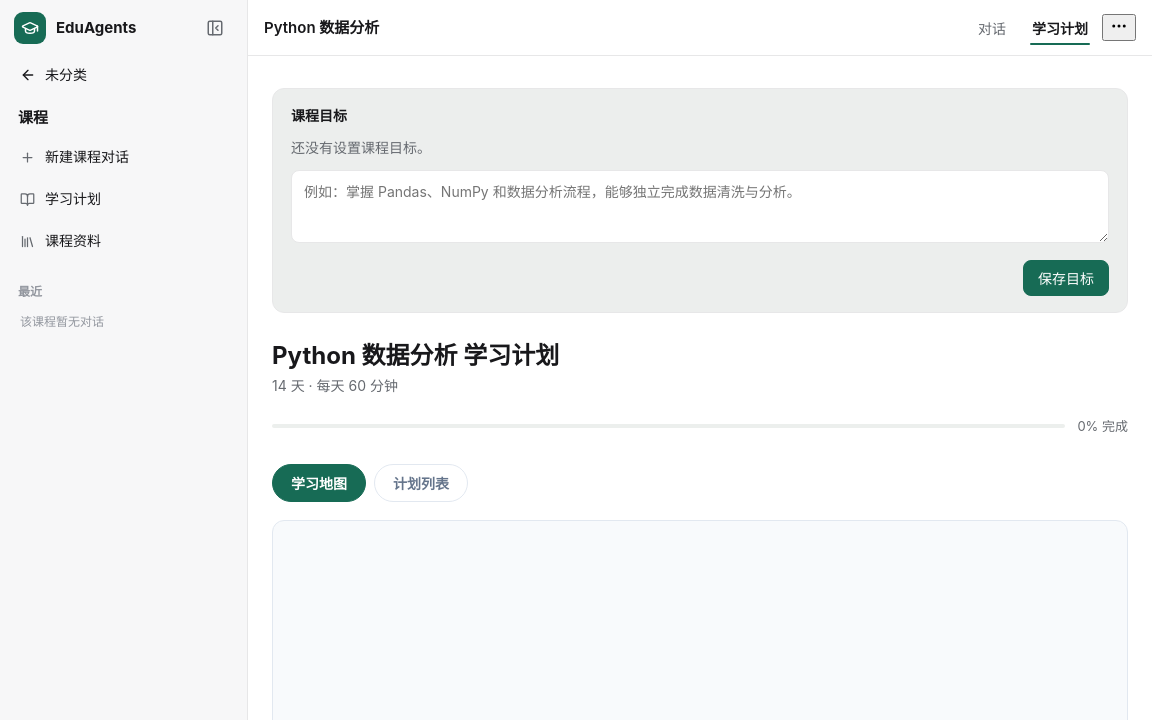
Test case: host-relative navigation (CourseHeader tabs + Plan Step) › Plan Step 就此提问 → /host/learning/courses/PY/chat?step=S1 (host-relative)
Click the tab "计划列表".
click(421, 483)  # box left=374, top=464, right=468, bottom=502
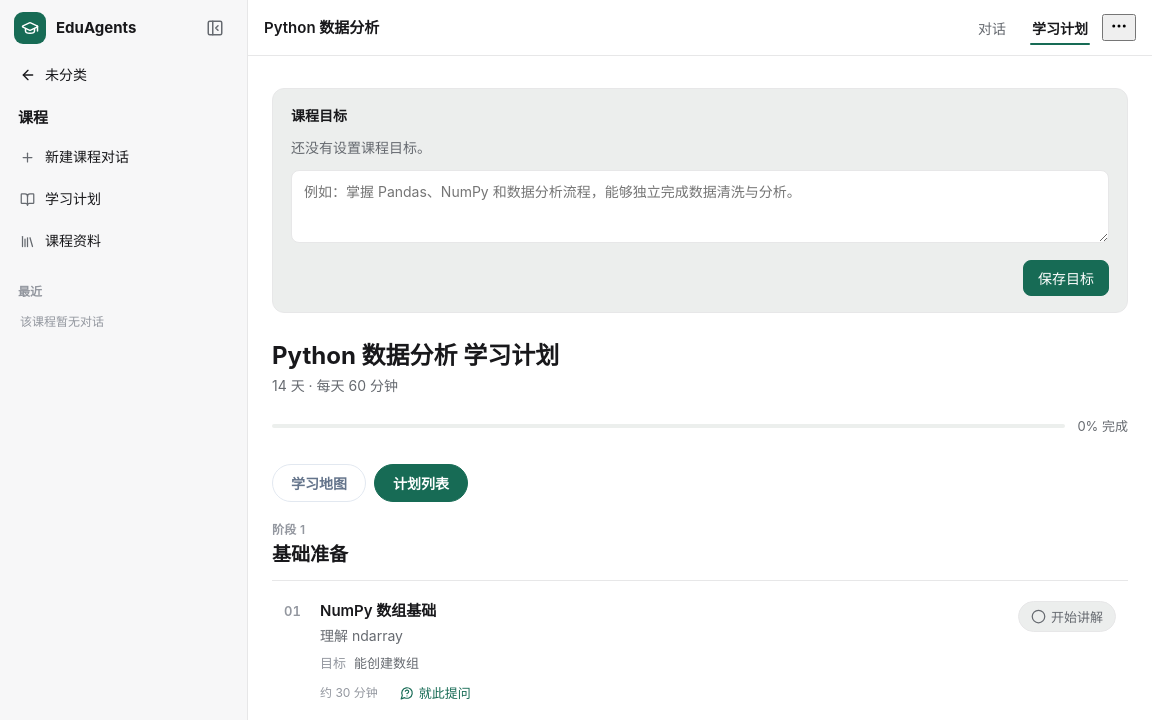
Now the number of buttons "就此提问" is 3
Click the button "就此提问".
click(435, 693)  # box left=392, top=679, right=479, bottom=706
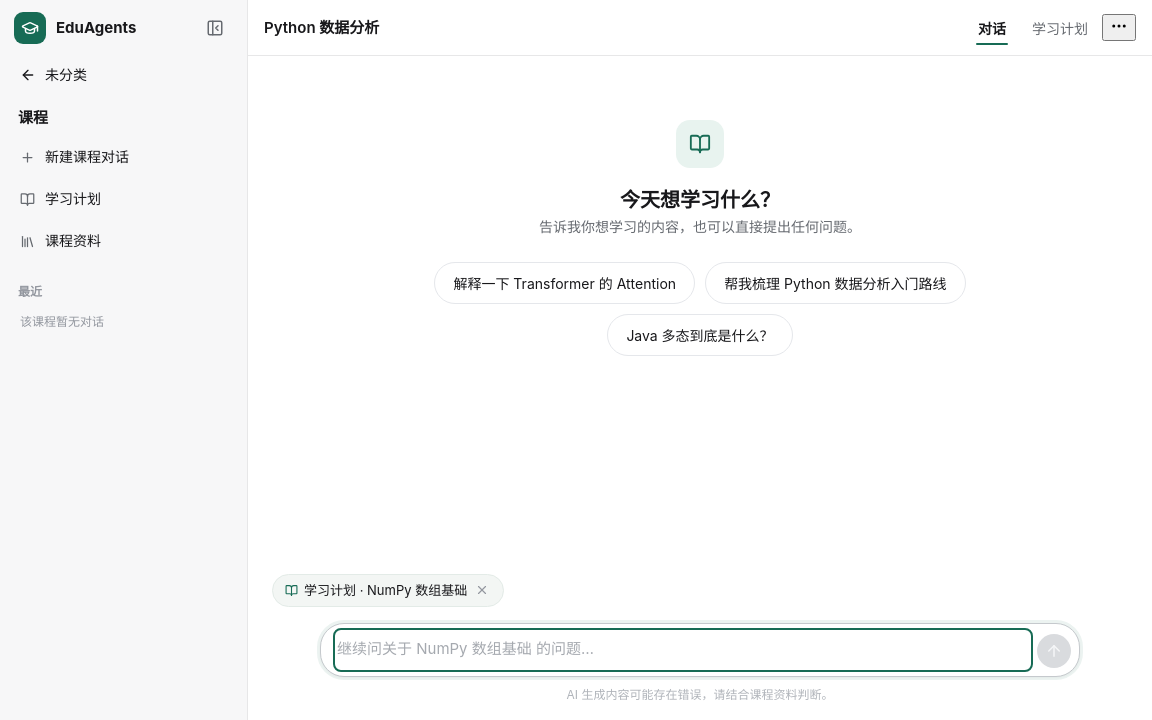
Now the text "学习计划 · NumPy 数组基础" is shown, box left=304, top=580, right=467, bottom=601
